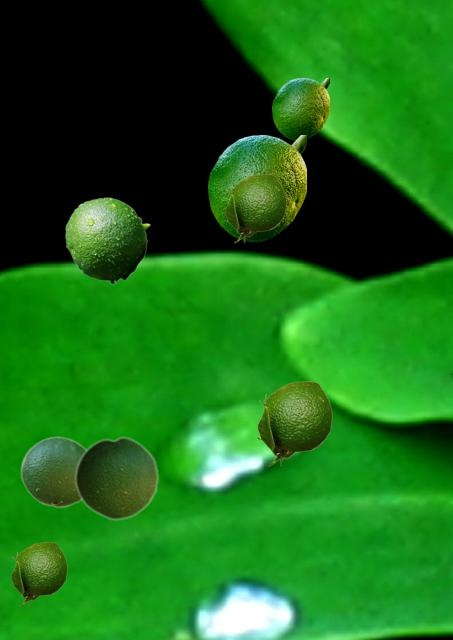dalandan: (208, 135, 305, 240), (65, 197, 149, 283), (74, 436, 158, 520), (256, 381, 331, 465), (20, 436, 85, 507), (224, 174, 285, 242), (10, 542, 66, 605), (272, 78, 328, 139)
